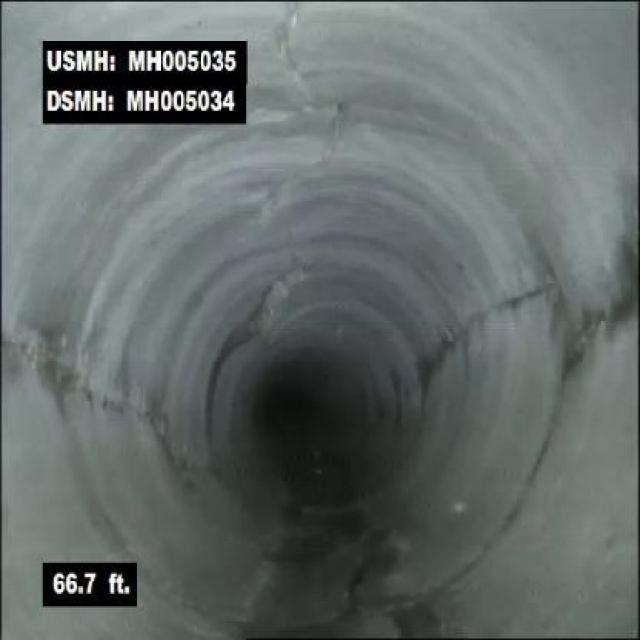Buckling: (272, 134, 338, 217), (342, 526, 391, 617)
Crack: (8, 337, 140, 417), (445, 285, 549, 343), (271, 1, 320, 117), (568, 298, 637, 372)
